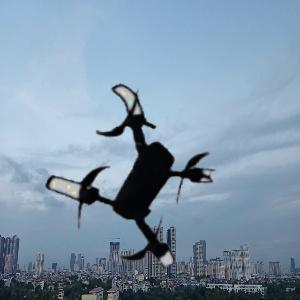drone: (31, 82, 224, 275)
